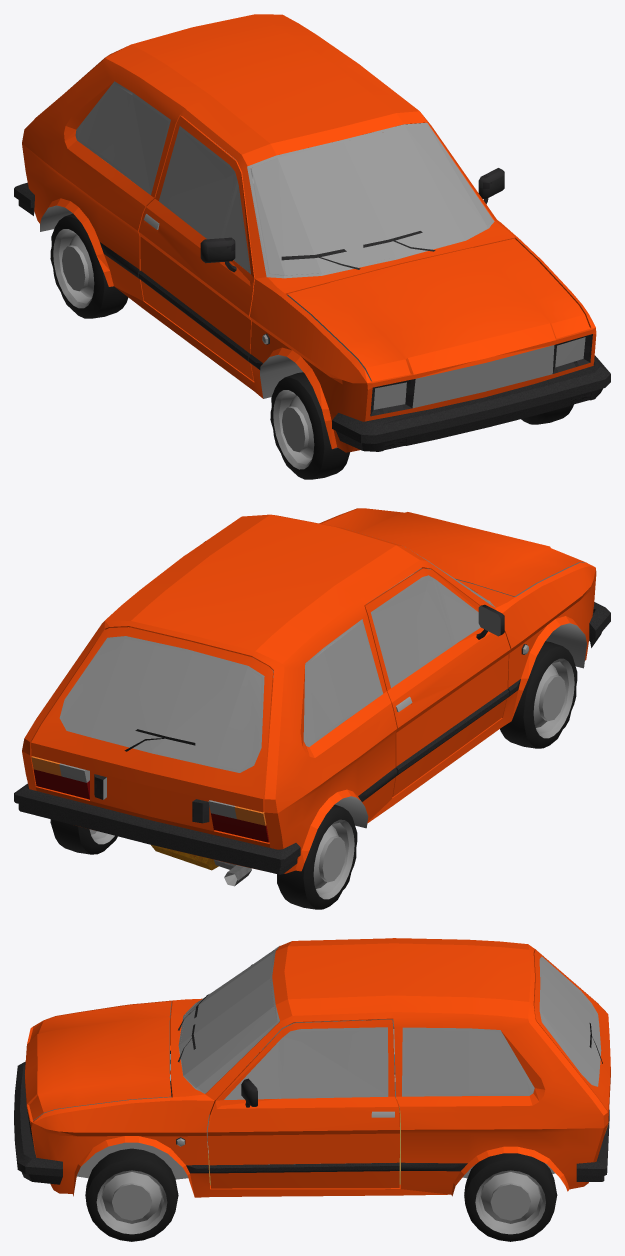
The model's file is Skala.FBX.
3 views of the same model, one above another, from view 1: azimuth 30°, elevation 25°; view 2: azimuth 150°, elevation 25°; view 3: azimuth 270°, elevation 25° (orthographic). The views are drawn at different scales.
Visible parts, largest first — view 1: Body, Windshield, Hood, Right Door, Front Bumper, Rear Windows, Wheel_FR, Wheel_RR, Mirror_Right, Mirror_Left; view 2: Body, Trunk, Right Door, Hood, Rear Bumper, Rear Windows, Wheel_FR, Wheel_RR, Wheel_RL, Mirror_Right, Front Bumper; view 3: Body, Left Door, Hood, Rear Windows, Windshield, Wheel_FL, Wheel_RL, Trunk, Front Bumper, Rear Bumper.
Boxes of the visible parts, x1,y1,x2,y2 form: Body: (22,14,596,452); Windshield: (247,122,494,278); Hood: (287,238,589,381); Right Door: (138,116,254,381); Front Bumper: (332,355,610,451); Rear Windows: (75,81,170,194); Wheel_FR: (270,372,350,479); Wheel_RR: (50,213,128,318); Mirror_Right: (200,237,236,272); Mirror_Left: (478,168,504,204); Body: (22,508,596,886); Trunk: (31,627,273,812); Right Door: (364,568,510,796); Hood: (321,508,584,597); Rear Bumper: (14,783,300,874); Rear Windows: (303,619,383,746); Wheel_FR: (500,641,577,748); Wheel_RR: (277,804,357,909); Wheel_RL: (50,819,117,854); Mirror_Right: (476,604,504,639); Front Bumper: (589,602,610,647); Body: (25,938,609,1197); Left Door: (207,1019,399,1188); Hood: (25,1001,171,1120); Rear Windows: (402,1027,534,1096); Windshield: (178,946,279,1093); Wheel_FL: (85,1148,178,1241); Wheel_RL: (464,1153,557,1241); Trunk: (533,950,610,1121); Front Bumper: (14,1061,62,1184); Rear Bumper: (576,1110,609,1181).
Size of the model in its own units: 2.1 by 1.71 by 4.17.
18 materials, 4 textured.
